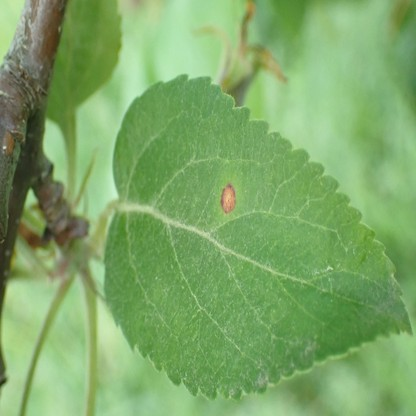frogeye_leaf_spot: (221, 183, 237, 215)
